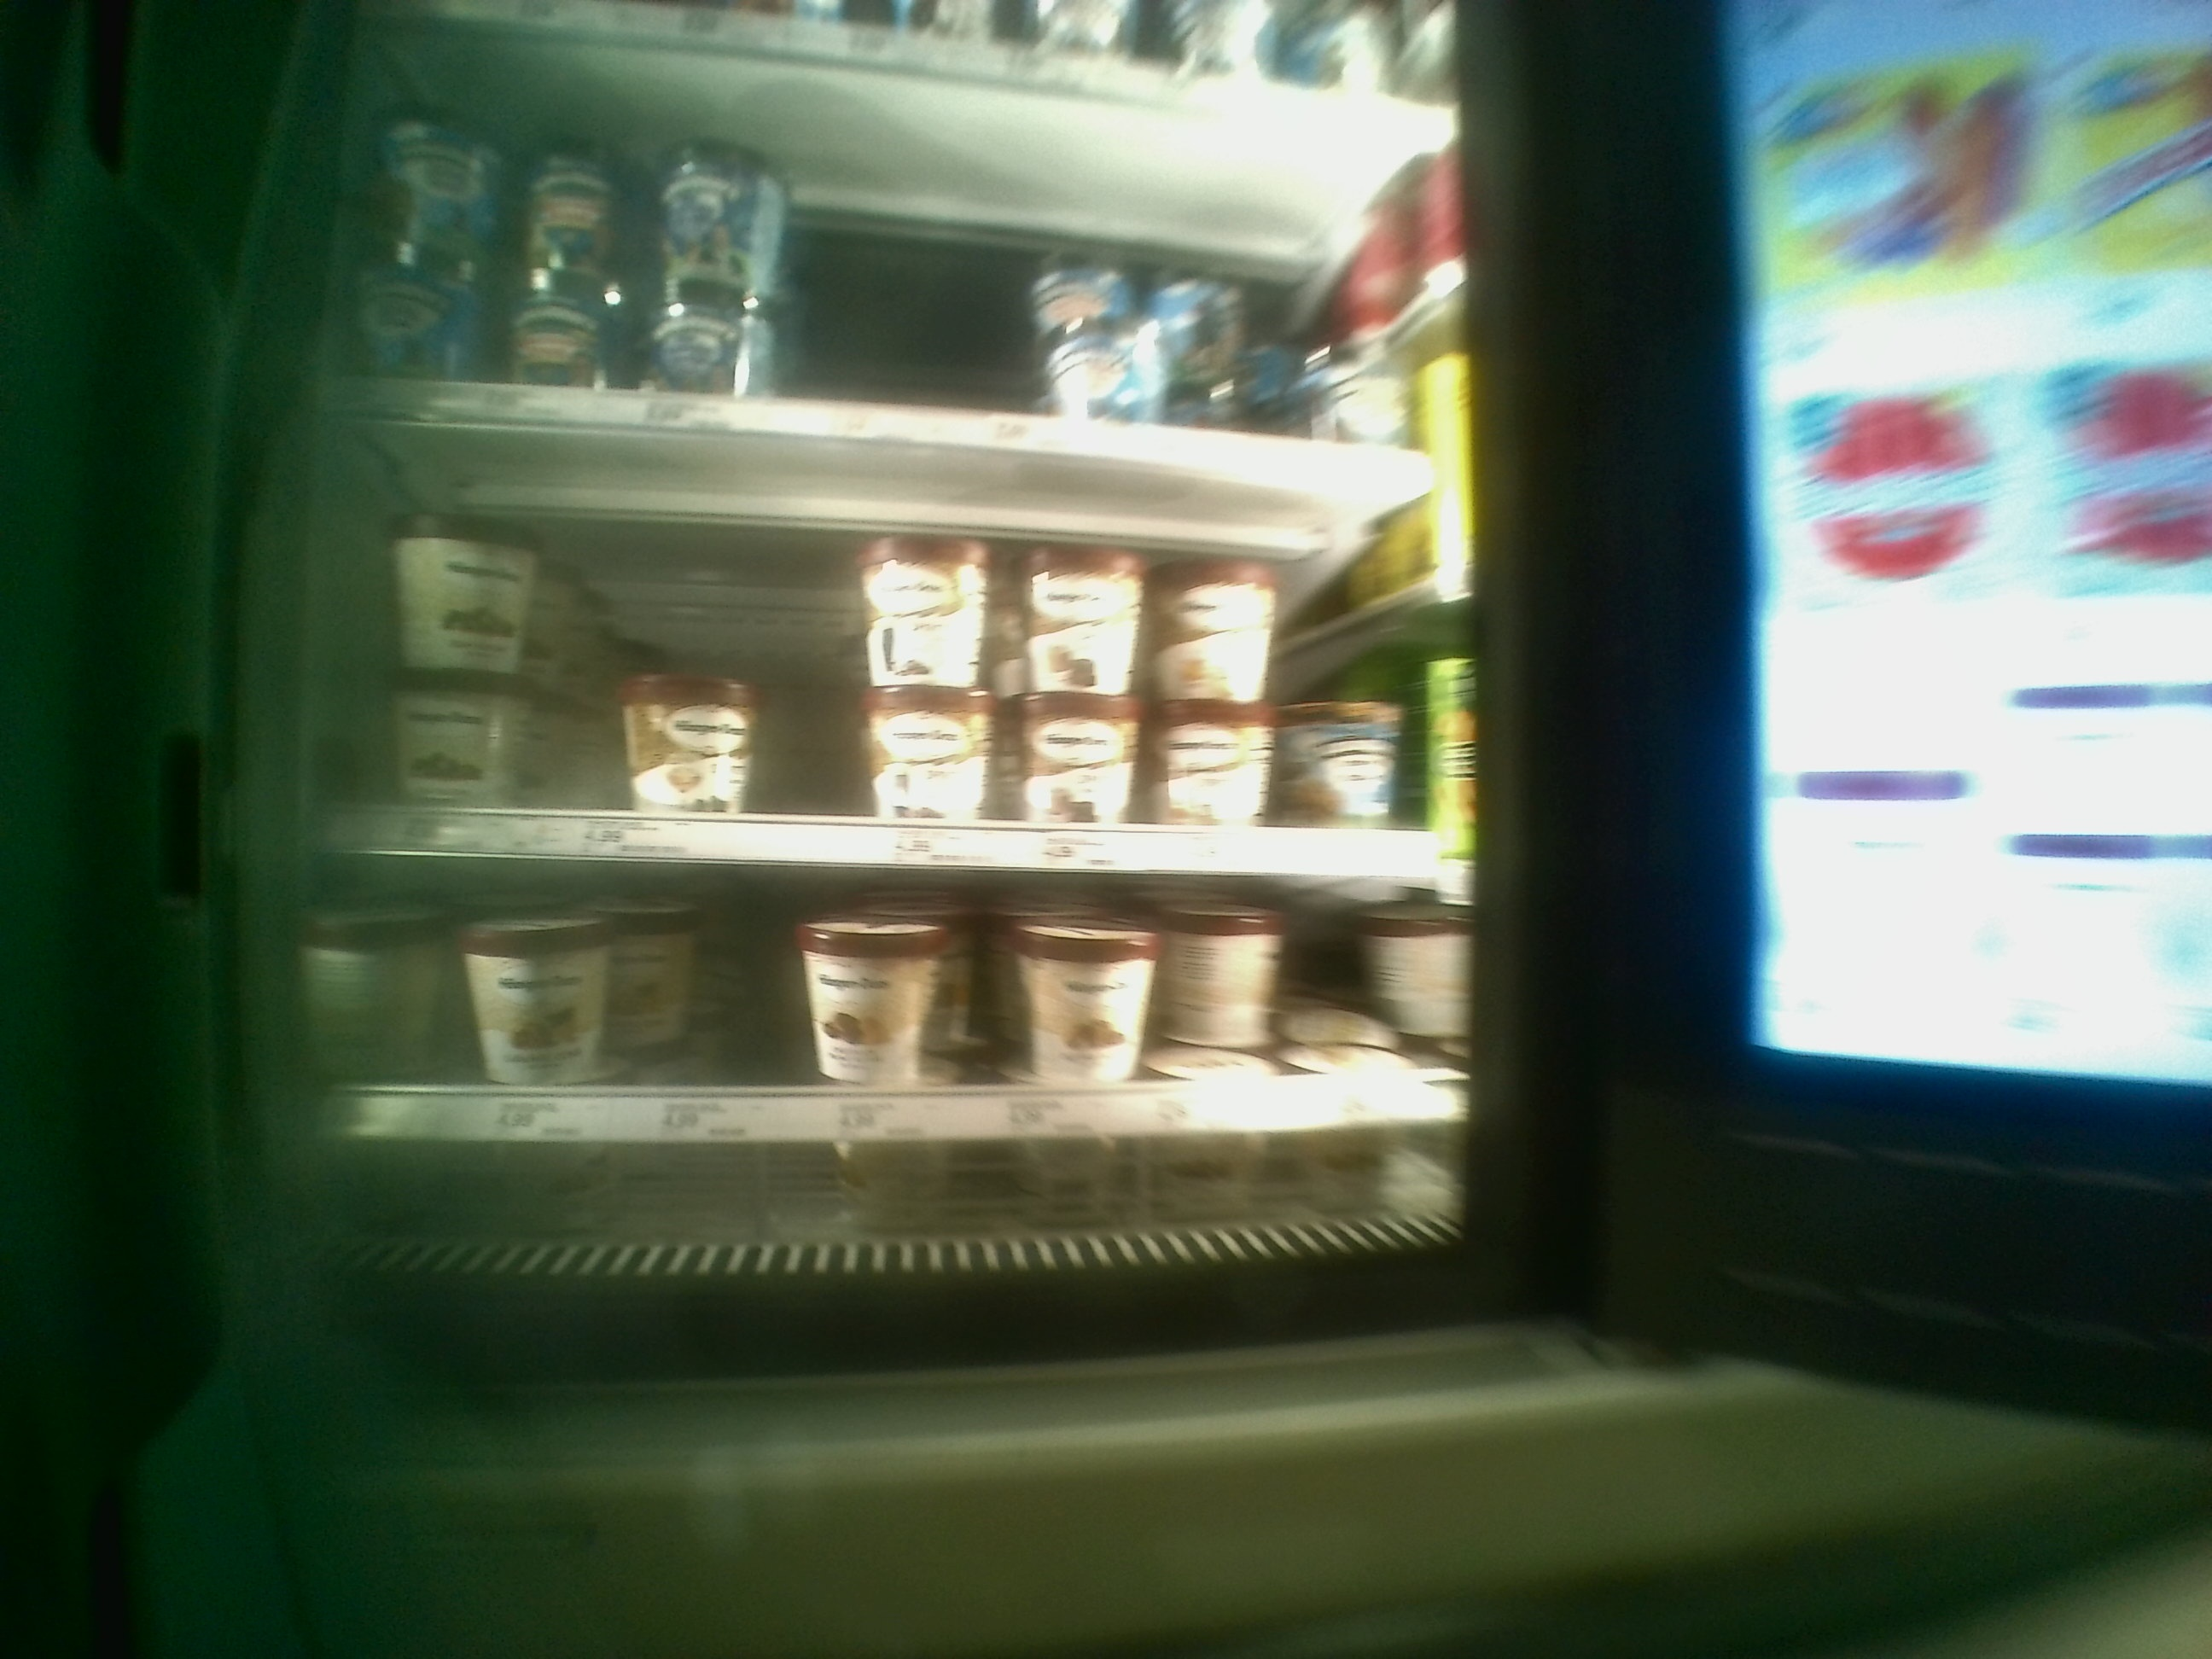shelf: (324, 408, 1470, 873), (320, 859, 1474, 1244)
